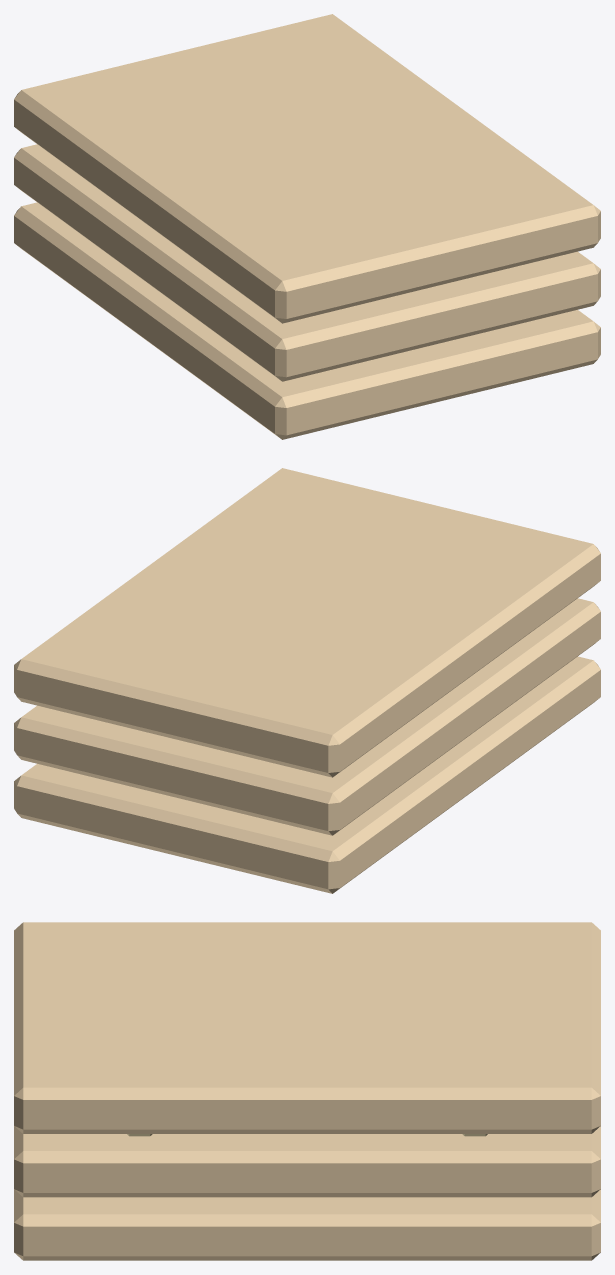
Rendered from cargo_planks.fbx.
The picture shows the model from 3 angles, top to bottom: view 1: azimuth 30°, elevation 25°; view 2: azimuth 150°, elevation 25°; view 3: azimuth 270°, elevation 25°; orthographic projection. The views are drawn at different scales.
Parts seen in each view (by area): view 1: cargo_planks_mesh; view 2: cargo_planks_mesh; view 3: cargo_planks_mesh.
Part boxes in pixels (x1,y1,x2,y2): cargo_planks_mesh: (14,14,600,439); cargo_planks_mesh: (14,468,600,893); cargo_planks_mesh: (14,922,600,1260).
Bounding box in the file's own units: 0.44 × 0.205 × 0.63.
